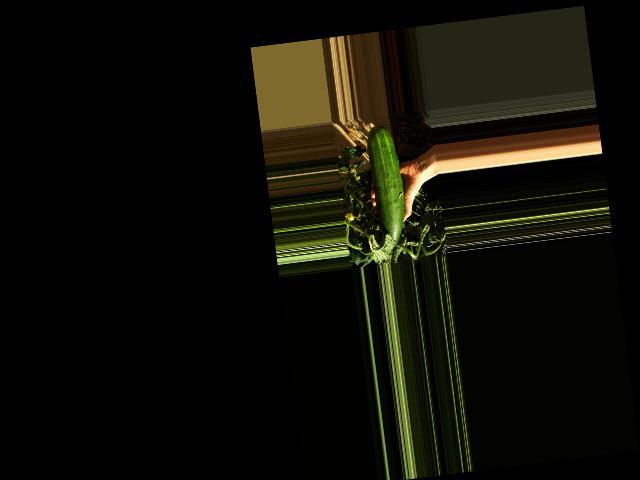cucumber: (364, 122, 410, 247)
